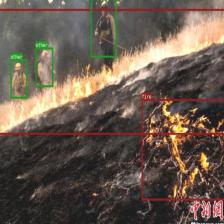fire: (0, 8, 224, 134), (141, 98, 224, 200)
